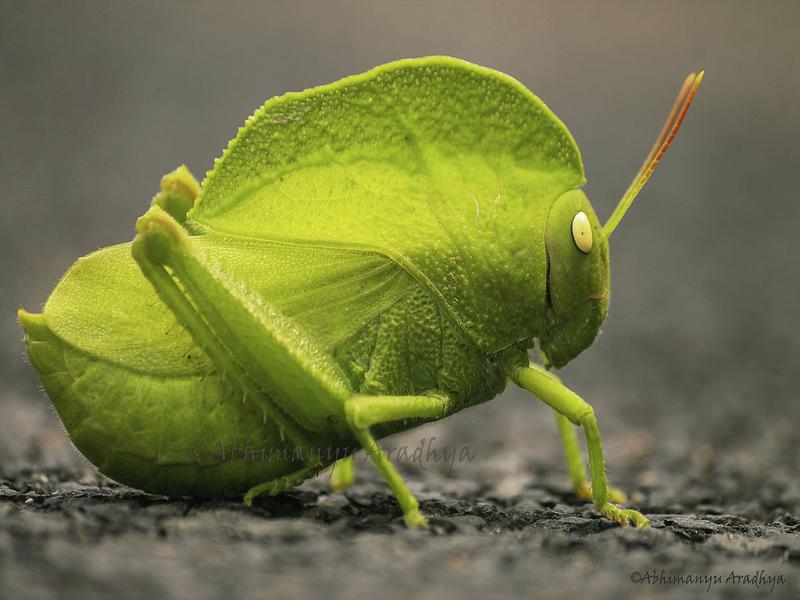Grasshopper: (24, 65, 641, 498)
